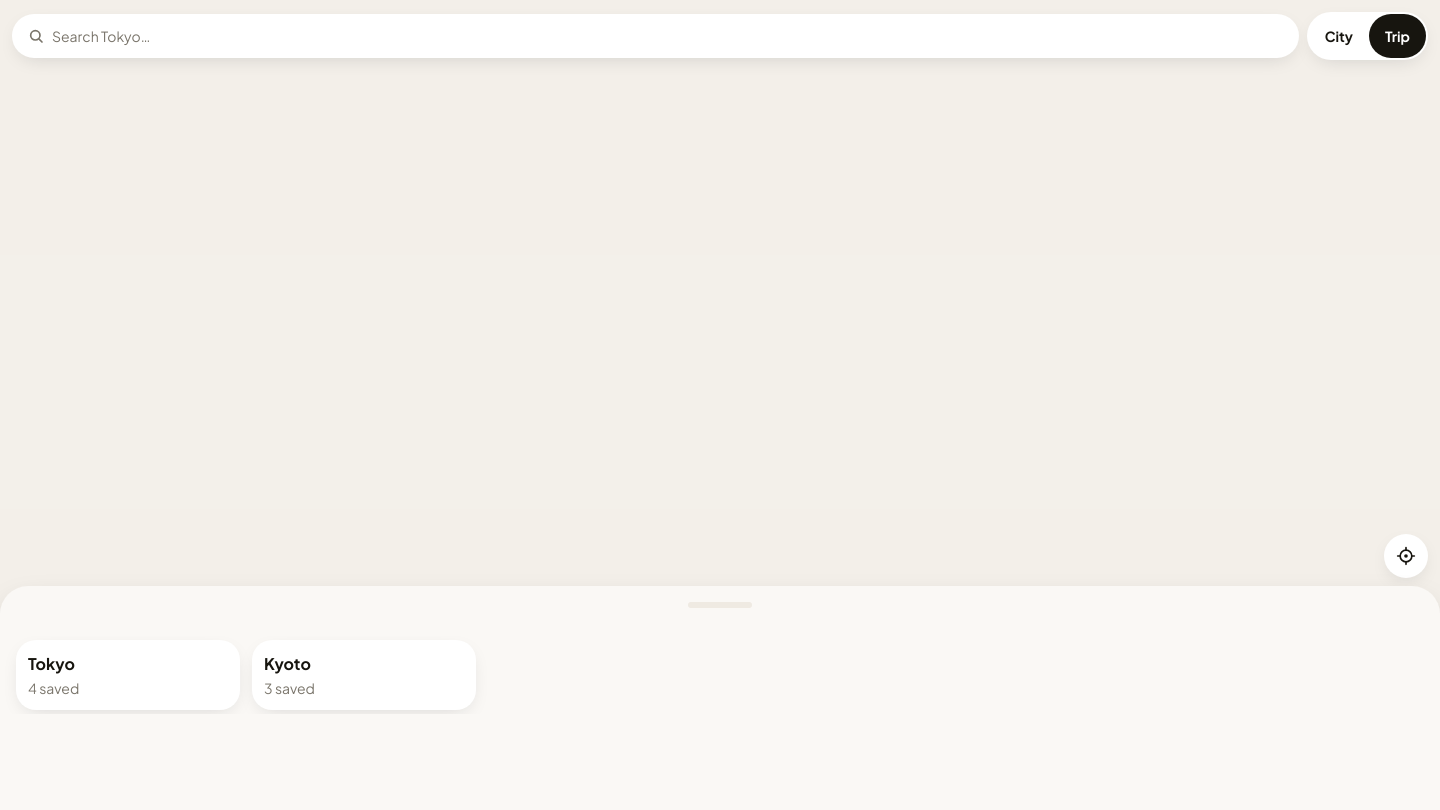
Scenario: the whole-trip view › shows a city visited twice once, and leaves nothing behind on the way back
Check: the text "Tokyo" is shown once, box [28, 652, 75, 676]
Click the button "City". click: (1339, 36)
box: [1309, 14, 1369, 58]
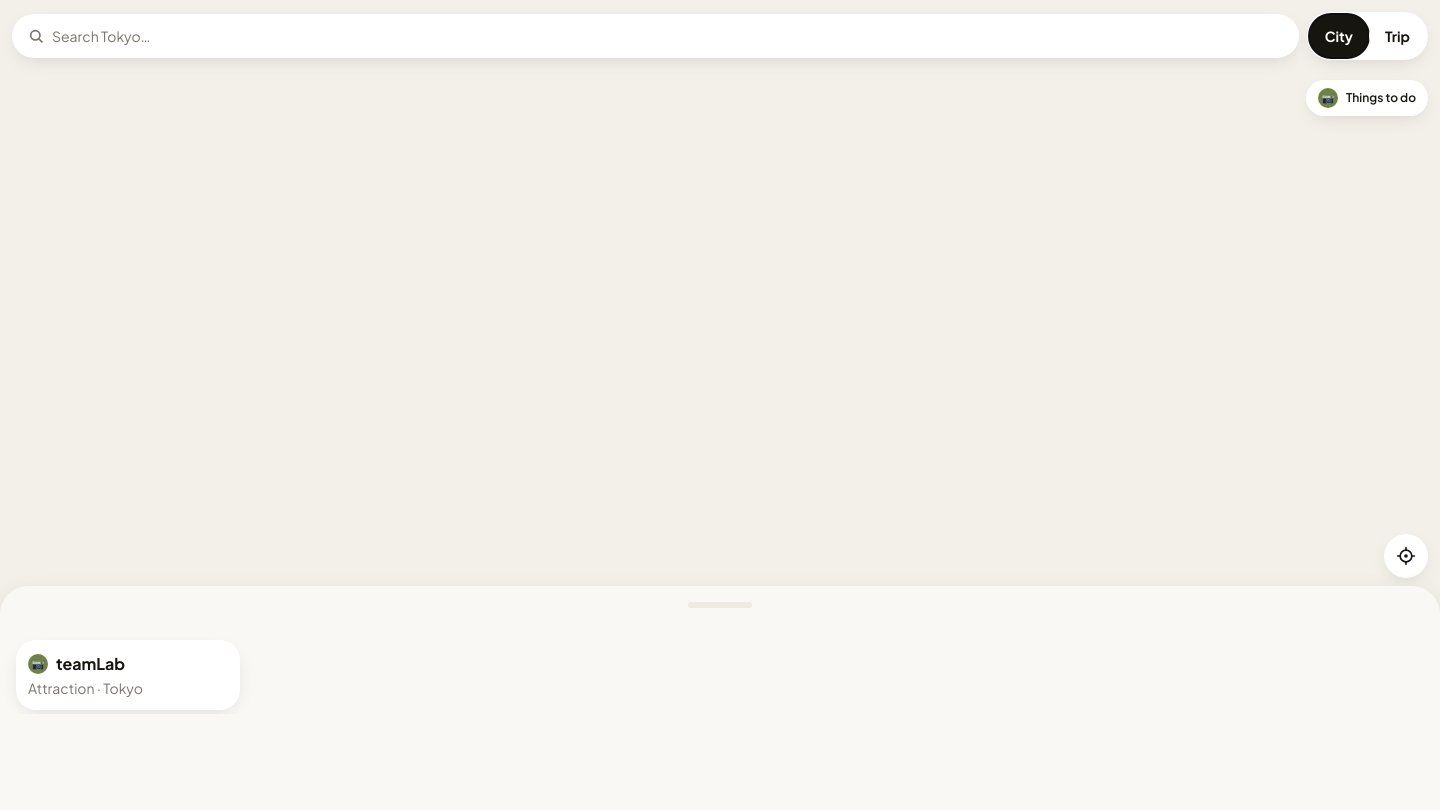
Check: the button "4 saved" is gone
Click the button "Trip". click: (1398, 36)
box: [1369, 14, 1426, 58]
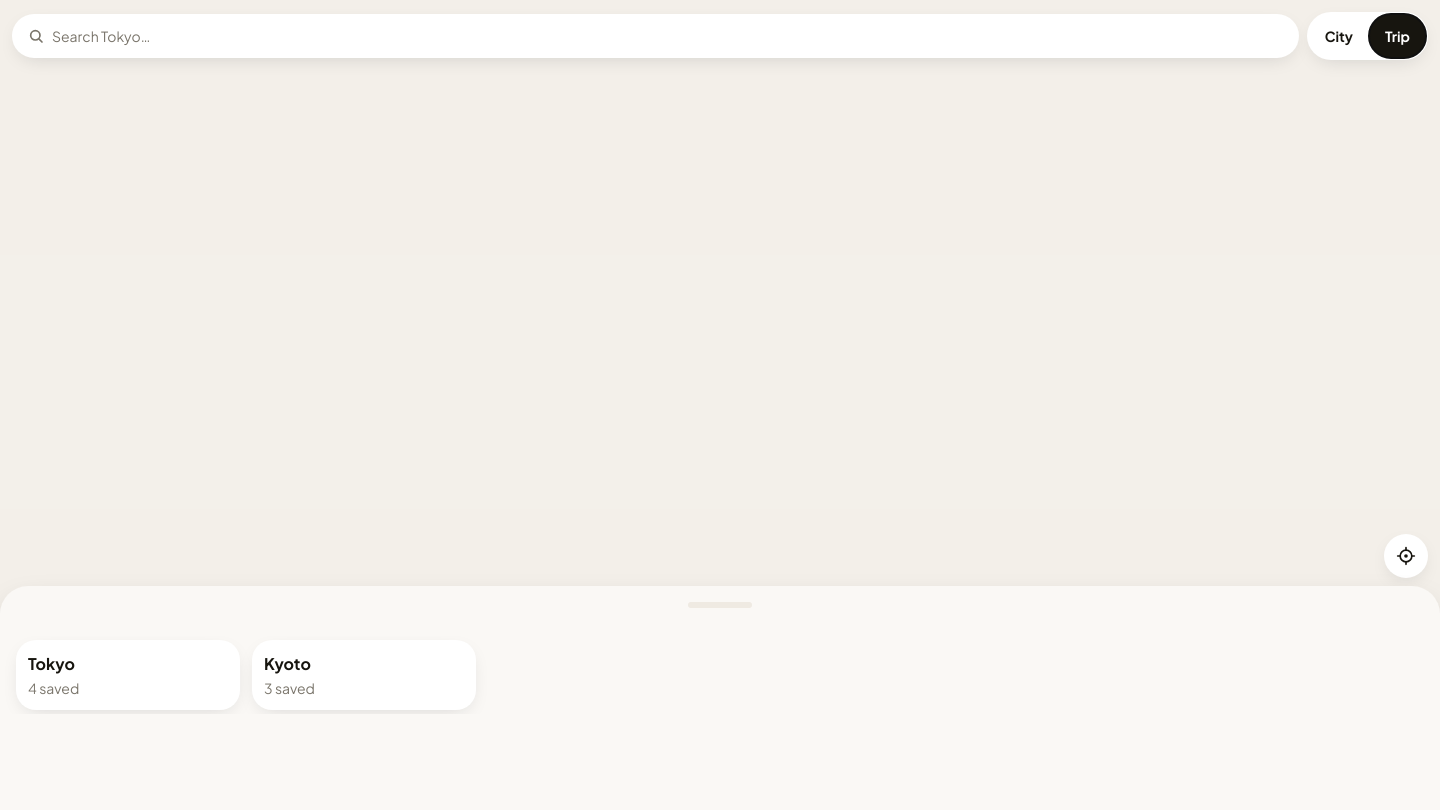
Check: the text "Tokyo" is shown once, box [28, 652, 75, 676]
Check: the text "4 saved" is shown once, box [28, 679, 79, 697]
Click the button "City". click: (1339, 36)
box: [1309, 14, 1369, 58]
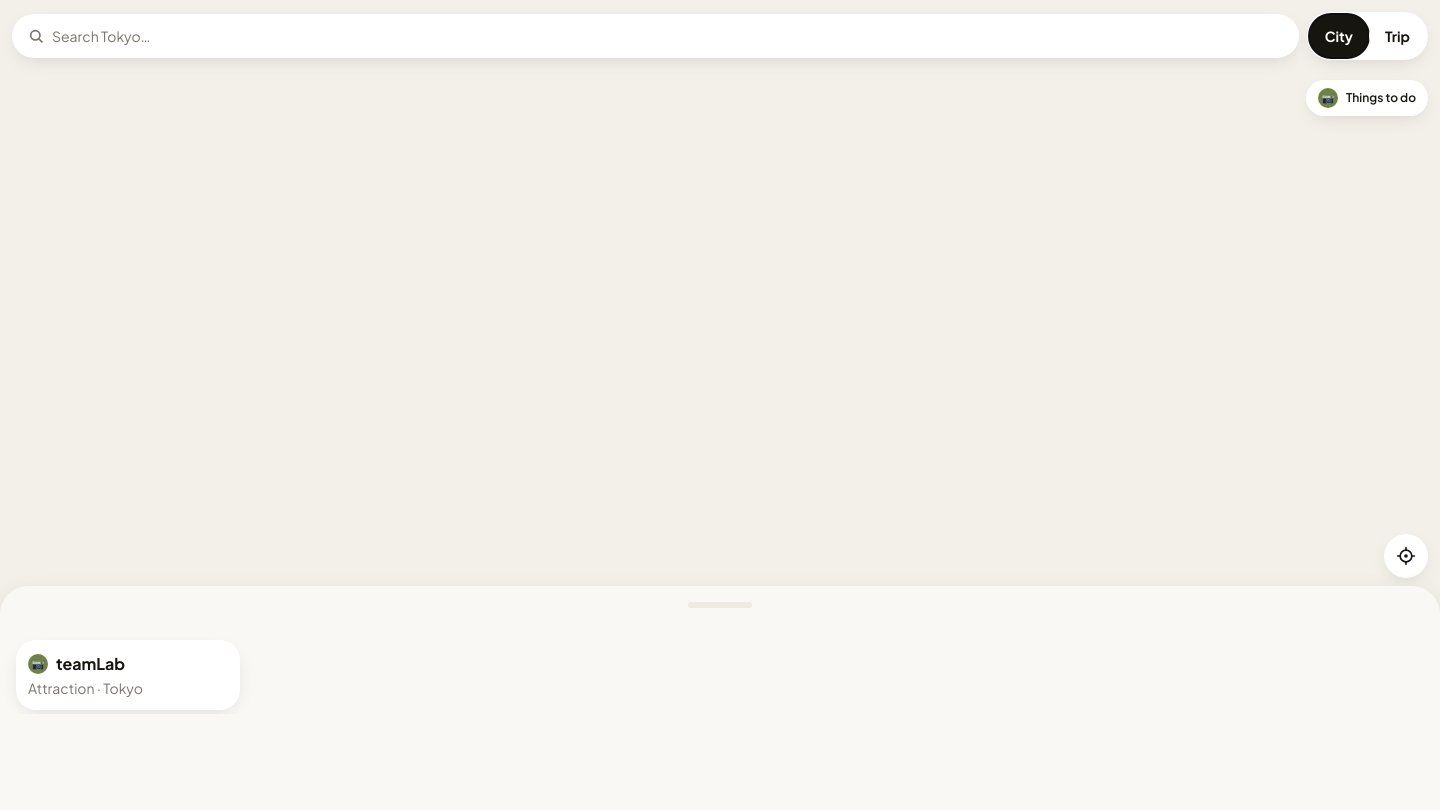
Check: the button "4 saved" is gone
Click the button "Trip". click: (1398, 36)
box: [1369, 14, 1426, 58]
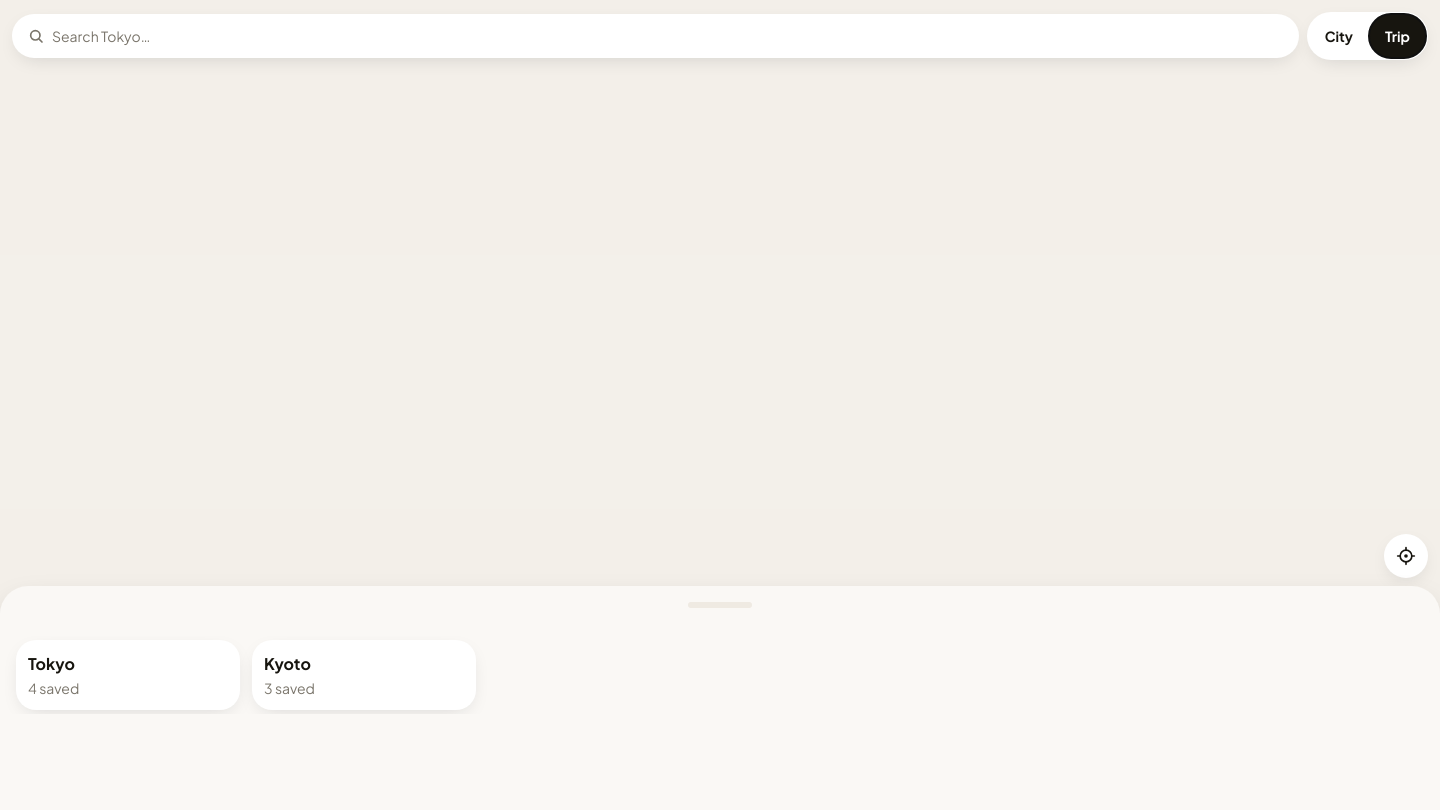
Check: the text "Tokyo" is shown once, box [28, 652, 75, 676]
Check: the text "4 saved" is shown once, box [28, 679, 79, 697]
